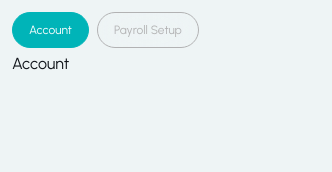
Scenario: SettingsTabNav › provides tabs and arrow-key navigation
Expected: the element showing "Account Payroll Setup" is shown, [12, 12, 199, 48]
Click the tab "Account": [50, 30] box [12, 12, 89, 48]
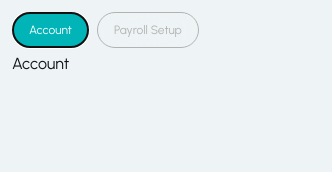
Press Arrowright
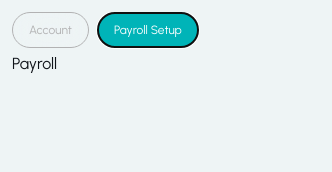
Now the tab "Payroll Setup" is selected, box [97, 12, 199, 48]
